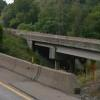Bridge: (9, 17, 100, 70)
